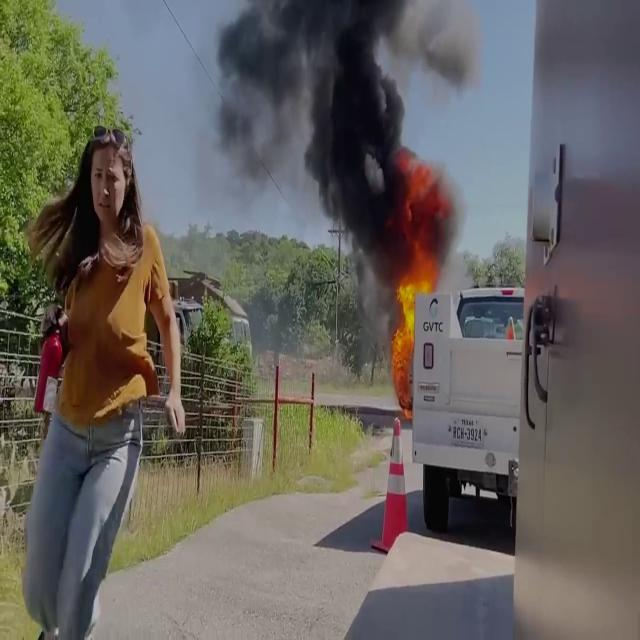Fire: (389, 244, 436, 394)
Smoke: (210, 0, 470, 270)
